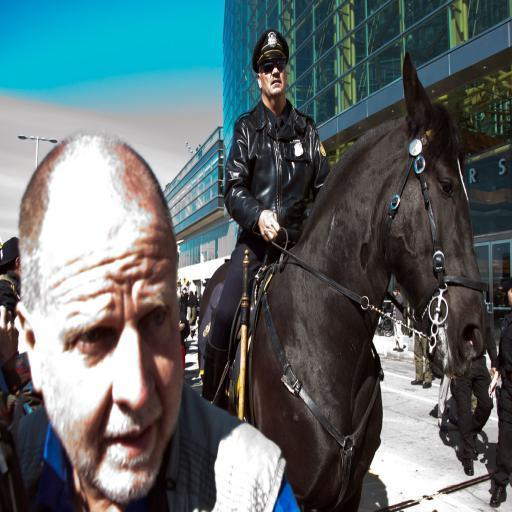horse: (198, 50, 504, 512)
